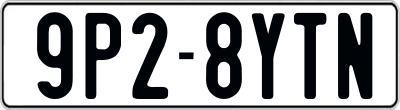2: (130, 11, 168, 97)
8: (204, 11, 241, 100)
9: (37, 12, 77, 103)
N: (338, 10, 373, 98)
P: (82, 12, 120, 99)
T: (291, 13, 328, 100)
Y: (252, 12, 287, 99)
